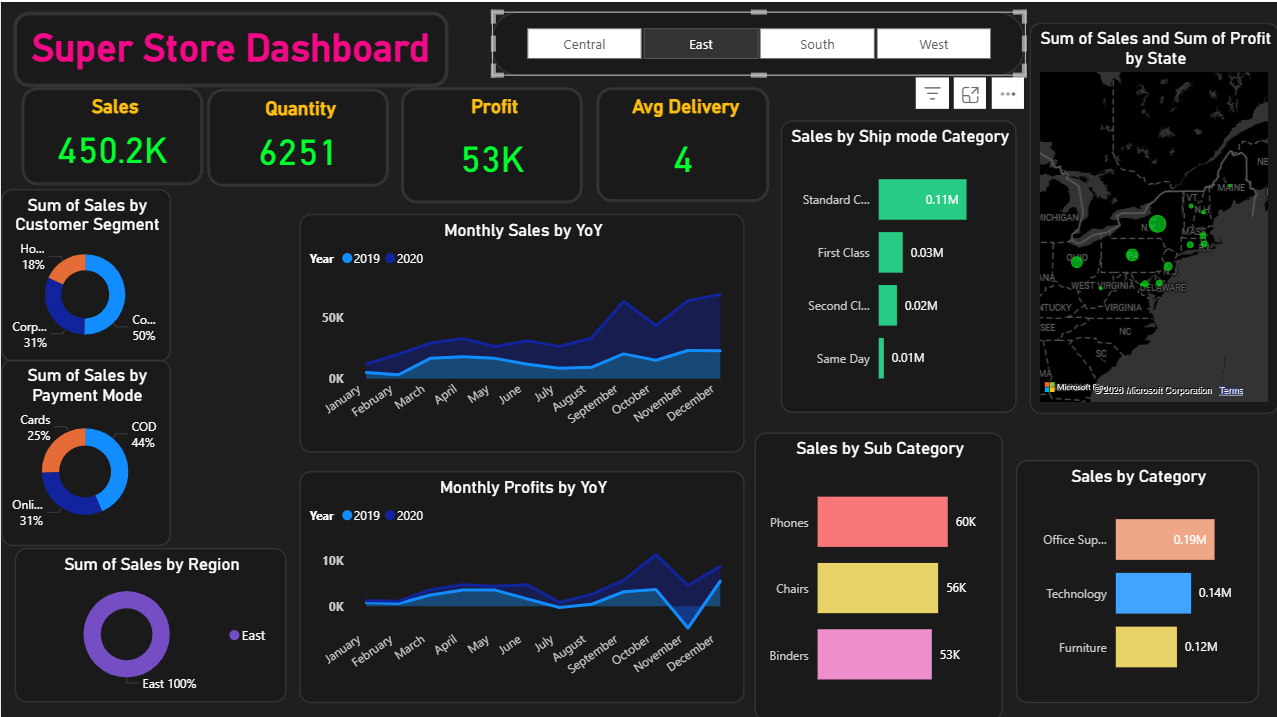

The dashboard page shown, as its layout file describes it:
{"tool":"powerbi","page":{"name":"Page 1","canvas":[1280,720],"ordinal":0},"visuals":[{"type":"clusteredBarChart","title":"Sales by Category","fields":{"Category":["SuperStore_Sales_Dataset.Category"],"Y":["Sum(SuperStore_Sales_Dataset.Sales)"]},"box":[1016.7,458.3,243.3,243.3],"z":0},{"type":"clusteredBarChart","title":"Sales by Sub Category","fields":{"Category":["SuperStore_Sales_Dataset.Sub-Category"],"Y":["Sum(SuperStore_Sales_Dataset.Sales)"]},"box":[754.3,431.4,248.6,288.6],"z":1000},{"type":"clusteredBarChart","title":"Sales by Ship mode Category","fields":{"Category":["SuperStore_Sales_Dataset.Ship Mode"],"Y":["Sum(SuperStore_Sales_Dataset.Sales)"]},"box":[780,118.3,236.7,293.3],"z":2000},{"type":"stackedAreaChart","title":"Monthly Sales by YoY","fields":{"Y":["Sum(SuperStore_Sales_Dataset.Sales)"],"Category":["SuperStore_Sales_Dataset.Order Date.Variation.Date Hierarchy.Month","SuperStore_Sales_Dataset.Order Date.Variation.Date Hierarchy.Day"],"Series":["SuperStore_Sales_Dataset.Order Date.Variation.Date Hierarchy.Year"]},"box":[298.3,211.7,475,240],"z":3000},{"type":"stackedAreaChart","title":"Monthly Profits by YoY","fields":{"Category":["SuperStore_Sales_Dataset.Order Date.Variation.Date Hierarchy.Month","SuperStore_Sales_Dataset.Order Date.Variation.Date Hierarchy.Day"],"Series":["SuperStore_Sales_Dataset.Order Date.Variation.Date Hierarchy.Year"],"Y":["Sum(SuperStore_Sales_Dataset.Profit)"]},"box":[298.3,458.3,446.7,233.3],"z":4000},{"type":"map","title":"Sum of Sales and Sum of Profit by State","fields":{"Category":["SuperStore_Sales_Dataset.State"],"Size":["Sum(SuperStore_Sales_Dataset.Sales)"]},"box":[1030,20,250,391.7],"z":5000},{"type":"donutChart","title":"Sum of Sales by Customer Segment","fields":{"Category":["SuperStore_Sales_Dataset.Segment"],"Y":["Sum(SuperStore_Sales_Dataset.Sales)"]},"box":[0,186.7,170,173.3],"z":6000},{"type":"donutChart","title":"Sum of Sales by Payment Mode","fields":{"Category":["SuperStore_Sales_Dataset.Payment Mode"],"Y":["Sum(SuperStore_Sales_Dataset.Sales)"]},"box":[0,358.3,170,186.7],"z":7000},{"type":"slicer","fields":{"Values":["SuperStore_Sales_Dataset.Region"]},"box":[491.7,10,533.3,65],"z":8000},{"type":"textbox","box":[12.9,10,435.7,75.7],"z":9000},{"type":"card","title":"Sales","fields":{"Values":["Sum(SuperStore_Sales_Dataset.Sales)"]},"box":[20,85,181.7,98.3],"z":10000},{"type":"card","title":"Quantity","fields":{"Values":["Sum(SuperStore_Sales_Dataset.Quantity)"]},"box":[206.7,86.7,181.7,98.3],"z":11000},{"type":"card","title":"Profit","fields":{"Values":["Sum(SuperStore_Sales_Dataset.Profit)"]},"box":[400,85,181.7,116.7],"z":12000},{"type":"card","title":"Avg Delivery","fields":{"Values":["Avg(SuperStore_Sales_Dataset.AverageDelivery)"]},"box":[596.7,85,173.3,115],"z":13000},{"type":"donutChart","fields":{"Category":["SuperStore_Sales_Dataset.Region"],"Y":["Sum(SuperStore_Sales_Dataset.Sales)"]},"box":[13.3,546.7,271.7,155],"z":14000}]}

Visuals, with their boxes in screenshot pixels (x1, y1, x2, y2), scaled from the page's 1280x720 canvas onto the 1277x717 screenshot:
"Sales by Category" clusteredBarChart: Rect(1014, 456, 1257, 699)
"Sales by Sub Category" clusteredBarChart: Rect(753, 430, 1001, 716)
"Sales by Ship mode Category" clusteredBarChart: Rect(778, 118, 1014, 410)
"Monthly Sales by YoY" stackedAreaChart: Rect(298, 211, 771, 450)
"Monthly Profits by YoY" stackedAreaChart: Rect(298, 456, 743, 689)
"Sum of Sales and Sum of Profit by State" map: Rect(1028, 20, 1276, 410)
"Sum of Sales by Customer Segment" donutChart: Rect(0, 186, 170, 358)
"Sum of Sales by Payment Mode" donutChart: Rect(0, 357, 170, 543)
slicer - SuperStore_Sales_Dataset.Region: Rect(491, 10, 1023, 75)
textbox: Rect(13, 10, 448, 85)
"Sales" card: Rect(20, 85, 201, 183)
"Quantity" card: Rect(206, 86, 387, 184)
"Profit" card: Rect(399, 85, 580, 201)
"Avg Delivery" card: Rect(595, 85, 768, 199)
donutChart - SuperStore_Sales_Dataset.Region x Sum(SuperStore_Sales_Dataset.Sales): Rect(13, 544, 284, 699)
